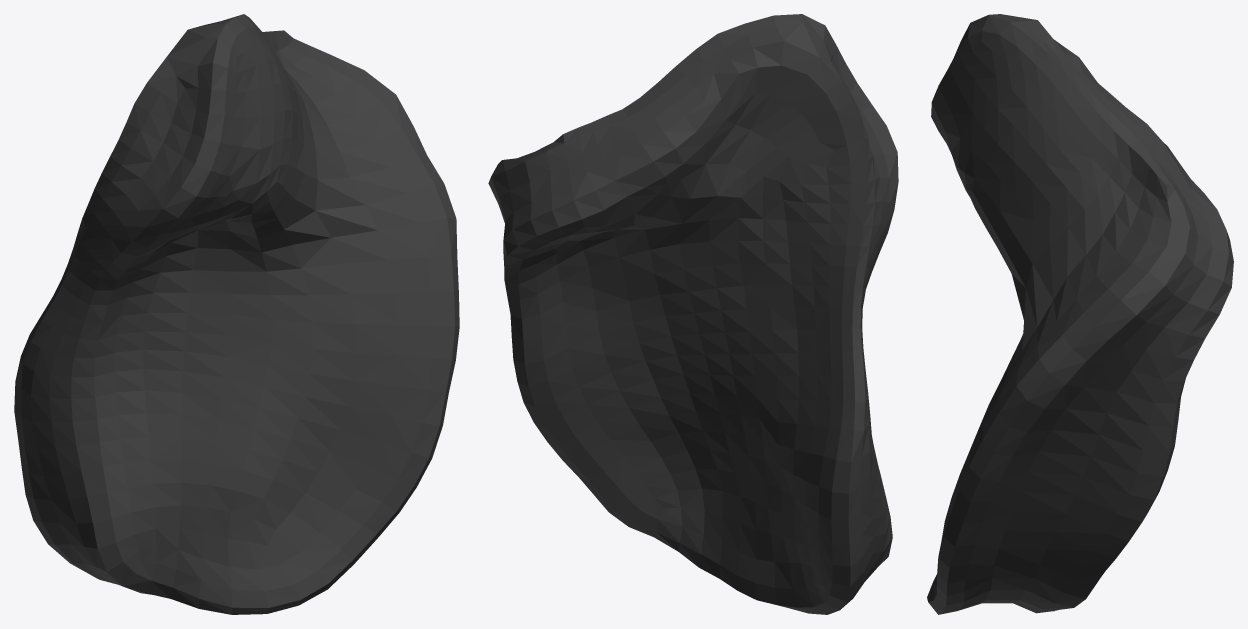
The model's file is INTERATRIAL_SEPTUM.glb.
3 views of the same model, side by side, from view 1: azimuth 30°, elevation 25°; view 2: azimuth 150°, elevation 25°; view 3: azimuth 270°, elevation 25° (orthographic). The views are drawn at different scales.
Visible parts, largest first — view 1: INTERATRIAL_SEPTUM; view 2: INTERATRIAL_SEPTUM; view 3: INTERATRIAL_SEPTUM.
Part boxes in pixels (x1=…): INTERATRIAL_SEPTUM: x1=14, y1=14, x2=459, y2=614; INTERATRIAL_SEPTUM: x1=488, y1=14, x2=898, y2=614; INTERATRIAL_SEPTUM: x1=927, y1=14, x2=1233, y2=614.
Size of the model in its own units: 2.9 by 4.12 by 1.98.
Materials: 1 (1 with a texture image).
